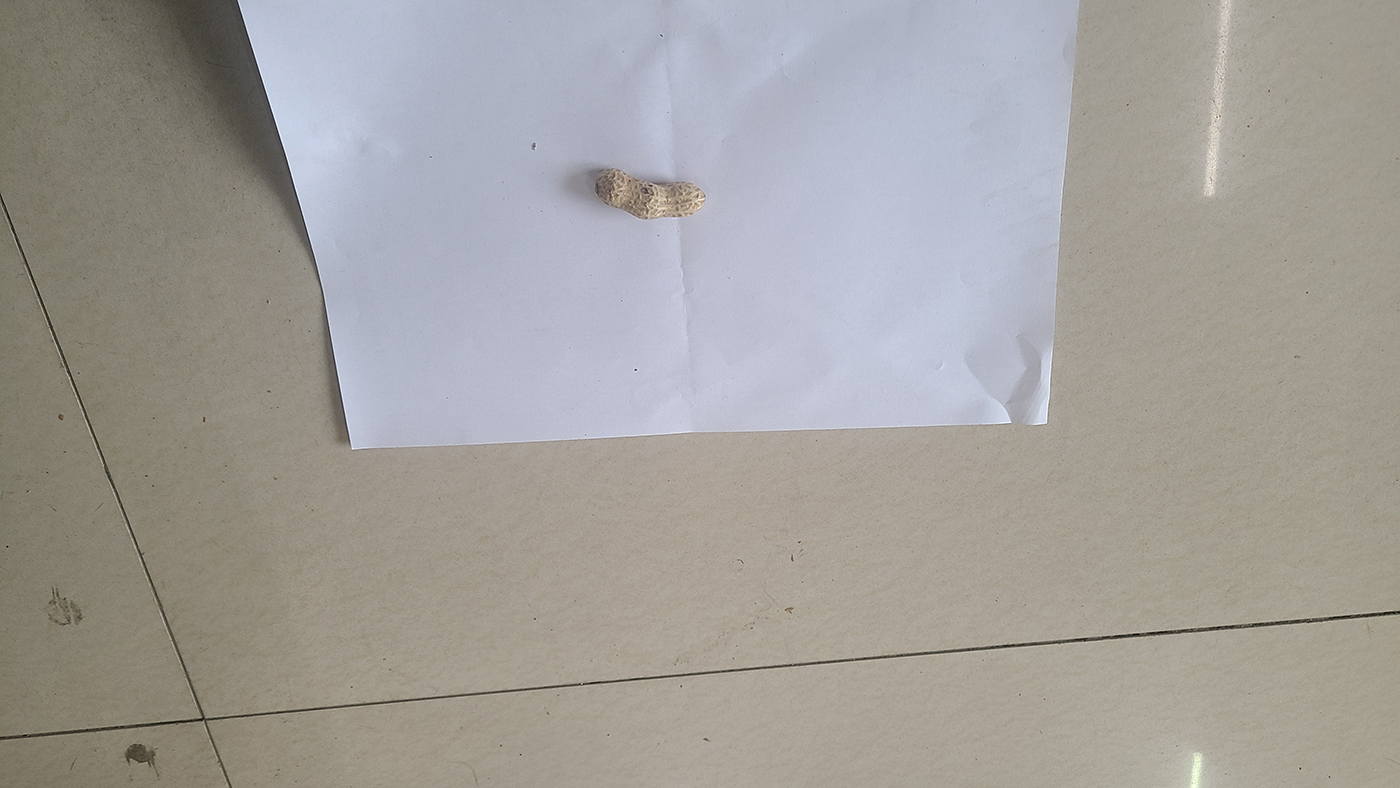h: (594, 167, 706, 221)
